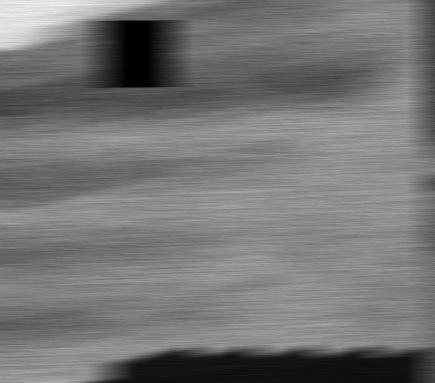Airbag: (0, 0, 434, 383), (423, 0, 435, 383)
